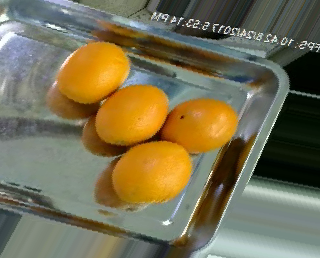Orange: (112, 140, 192, 203), (57, 41, 131, 105), (95, 83, 169, 145), (162, 98, 238, 153)
